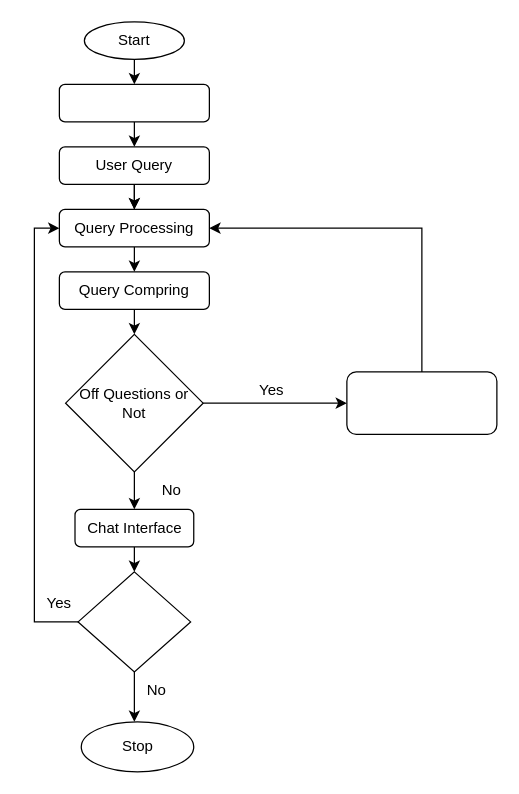
This 519x794 diagram has some shape labels left out. The shapes that lost their labels are listed below. From the top down, each one's centre as x and y in pixels, then its label:
the point at 133,102: Greetings
the point at 421,402: List of Topic related to query
the point at 134,621: If you want continue
